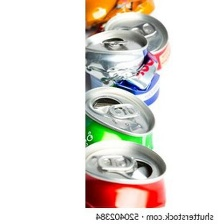can: (81, 26, 166, 107), (83, 137, 175, 208), (81, 84, 164, 149), (99, 10, 179, 71), (72, 0, 158, 32)
